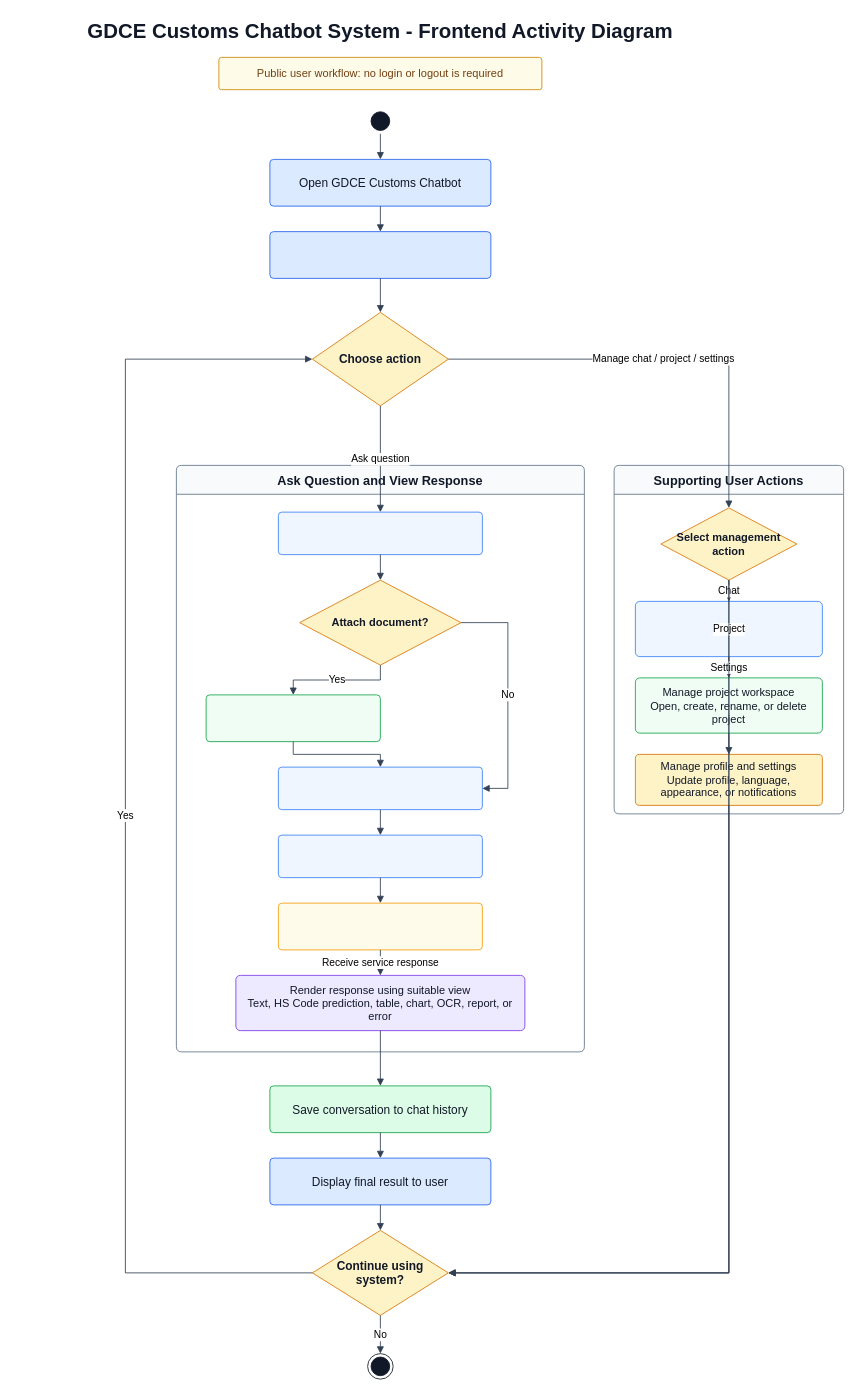
The diagram is 859 pixels wide and 1394 high, and some of its shapes have lost their labels. Here are the shapes that lost their labels. From the top down, the centre of each, then its label:
At point (380, 254): "Display chatbot interface".
At point (380, 533): "Enter customs-related question".
At point (728, 629): "Manage chat history Create, open, rename, delete, search, or share chat".
At point (292, 718): "Upload and preview file".
At point (380, 788): "Submit message".
At point (380, 856): "Show loading / typing state".
At point (380, 926): "Send request to connected API service".
